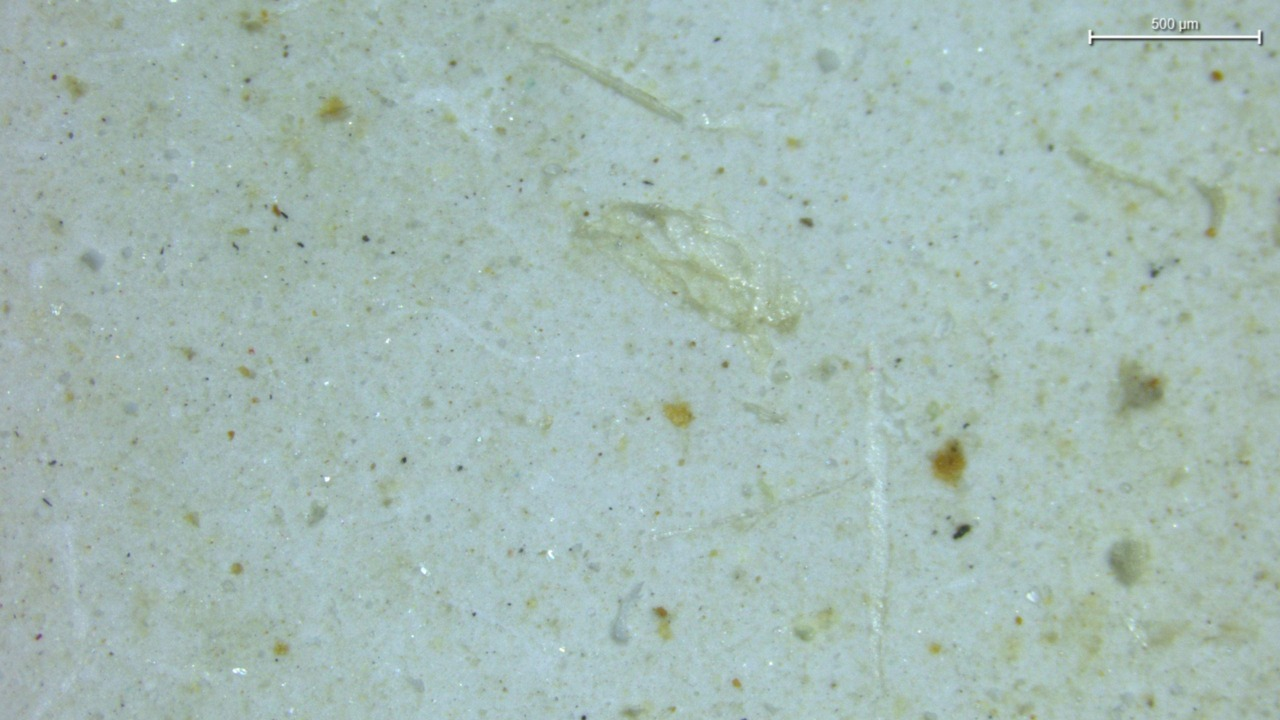microplastic_fragment: (572, 201, 804, 371), (610, 581, 644, 644)
